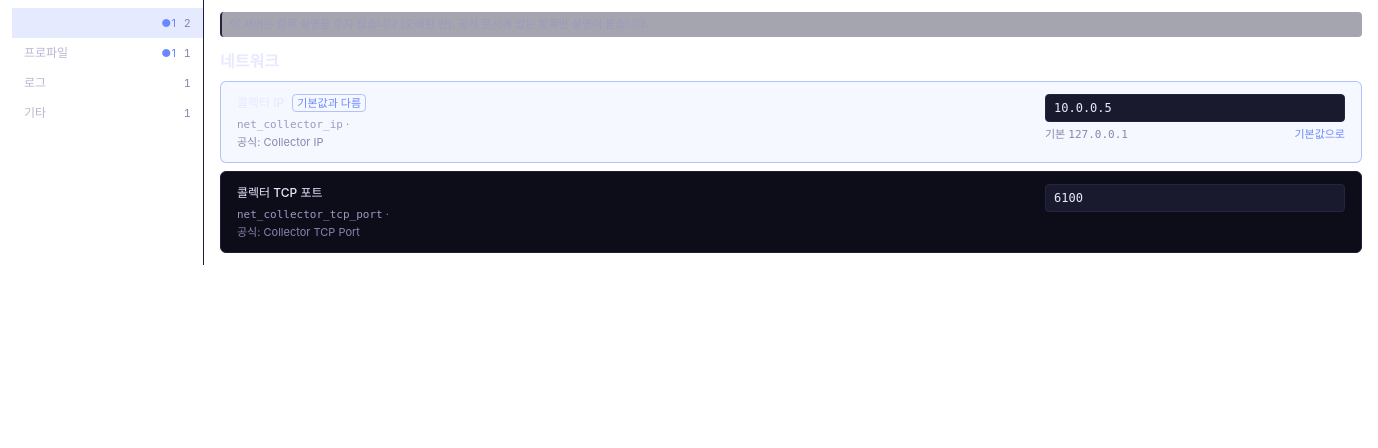
Scenario: SettingsForm — 저장 › 저장이 실패하면 고친 것을 버리지 않는다
The width and height of the screenshot is (1378, 448).
Replace the text in the field named "net_collector_ip" with "10.0.0.9" at [1195, 108], box [1045,94,1345,122]
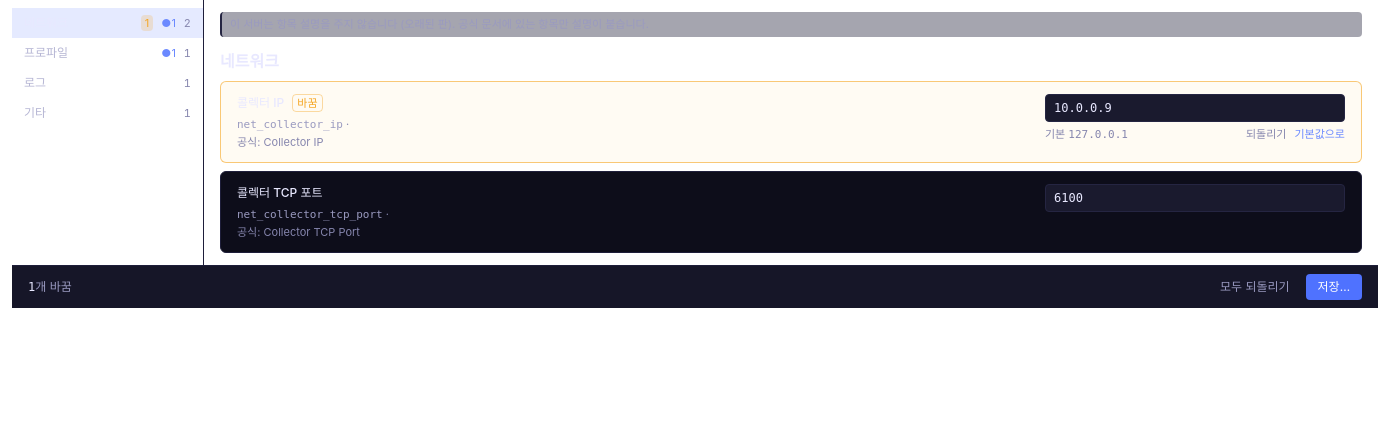
Click the button "저장…" at [1334, 287], box [1306,274,1362,300]
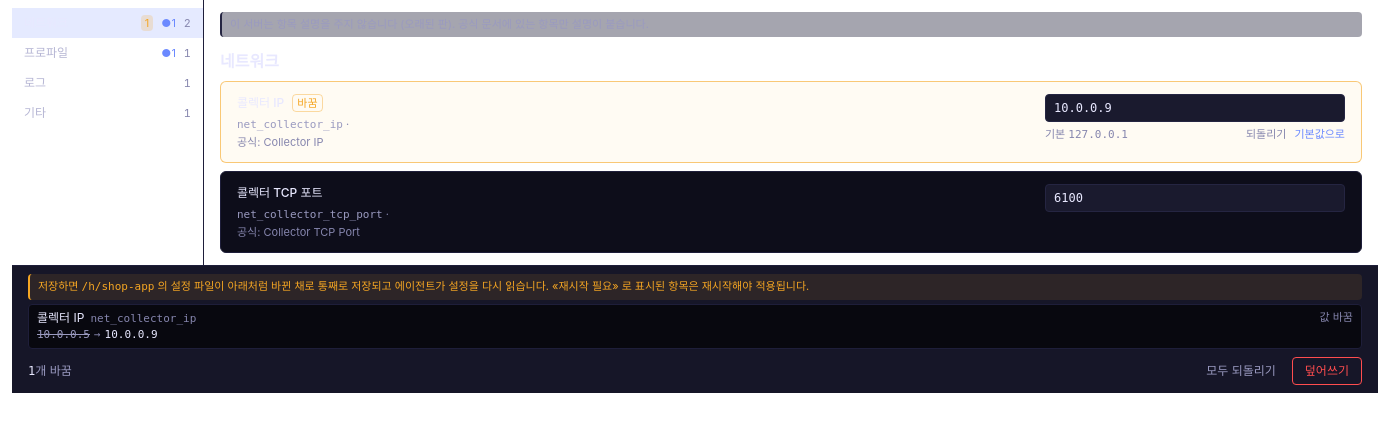
Click the button "덮어쓰기" at [1327, 370], box [1292,356,1362,384]
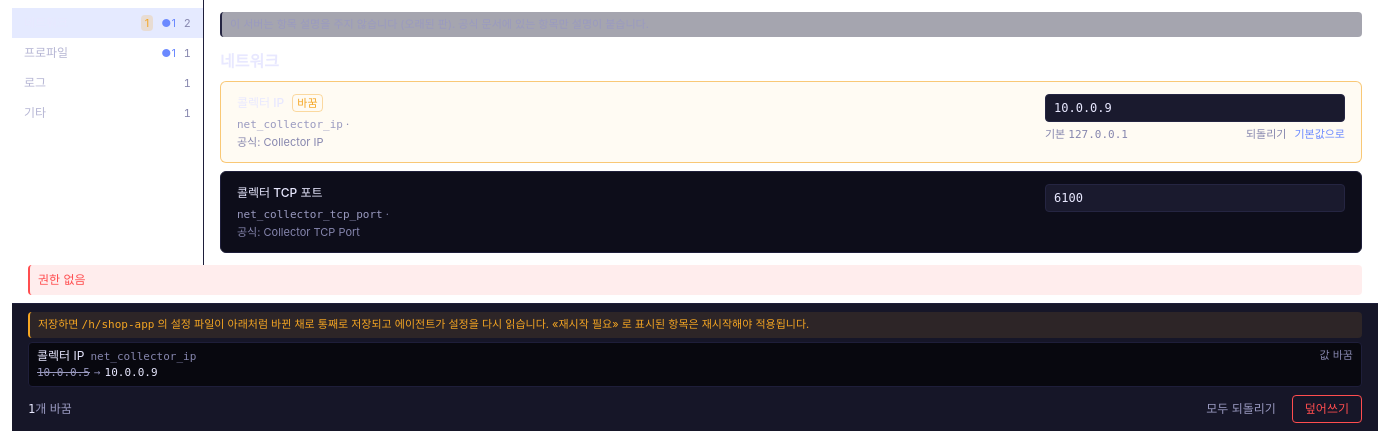
Check: the text "권한 없음" is shown, box [28,265,1362,295]
